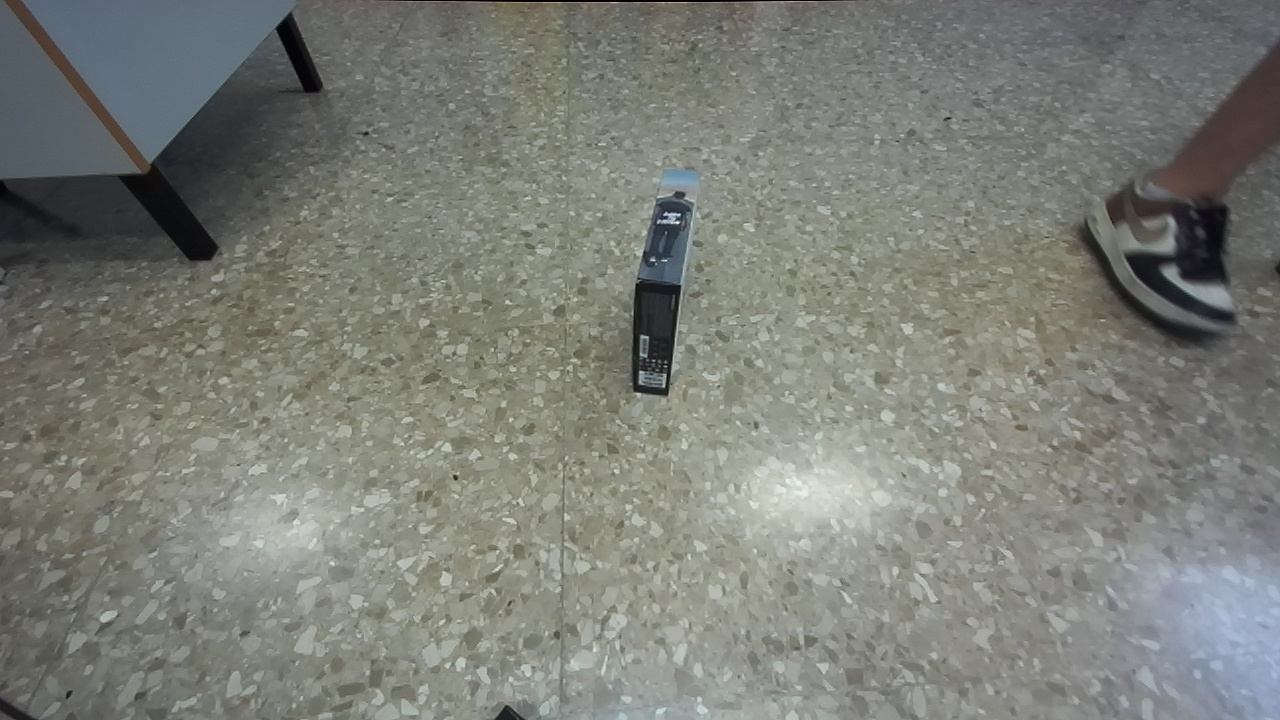caja_chasis: (629, 169, 700, 394)
